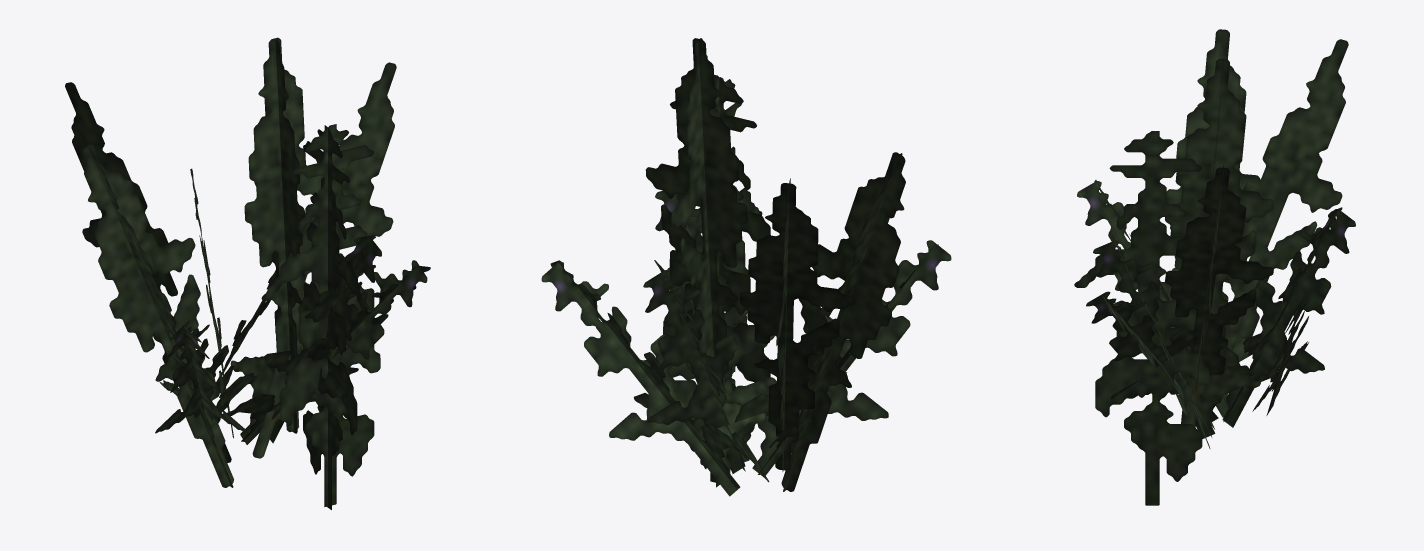
Rendered from SM_EC_Plant_Bush_10.fbx.
3 renders of one model, left to right at view 1: azimuth 30°, elevation 25°; view 2: azimuth 150°, elevation 25°; view 3: azimuth 270°, elevation 25°, orthographic. The views are drawn at different scales.
Visible parts, largest first — view 1: SM_EC_Plant_Bush_10; view 2: SM_EC_Plant_Bush_10; view 3: SM_EC_Plant_Bush_10.
Part boxes in pixels (left/top/right/bottom): SM_EC_Plant_Bush_10: left=65, top=37, right=430, bottom=509; SM_EC_Plant_Bush_10: left=541, top=38, right=951, bottom=496; SM_EC_Plant_Bush_10: left=1074, top=29, right=1355, bottom=505.
Size of the model in its own units: 1.01 by 0.8321 by 1.08.
